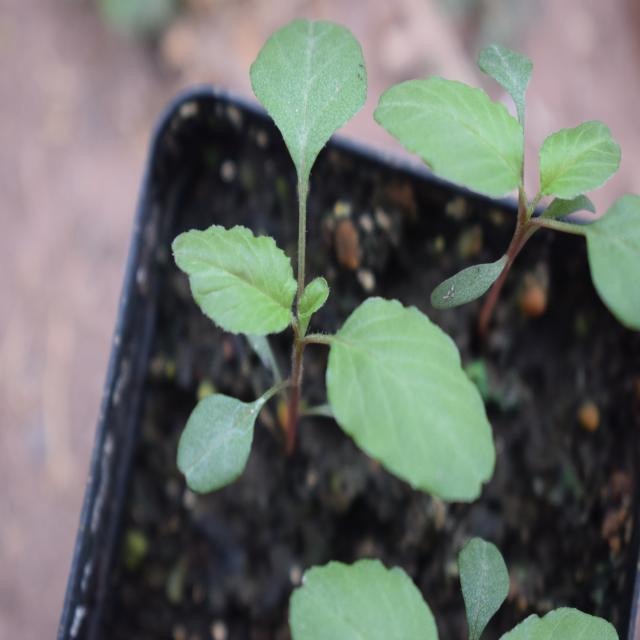pigweed: (176, 0, 530, 573)
